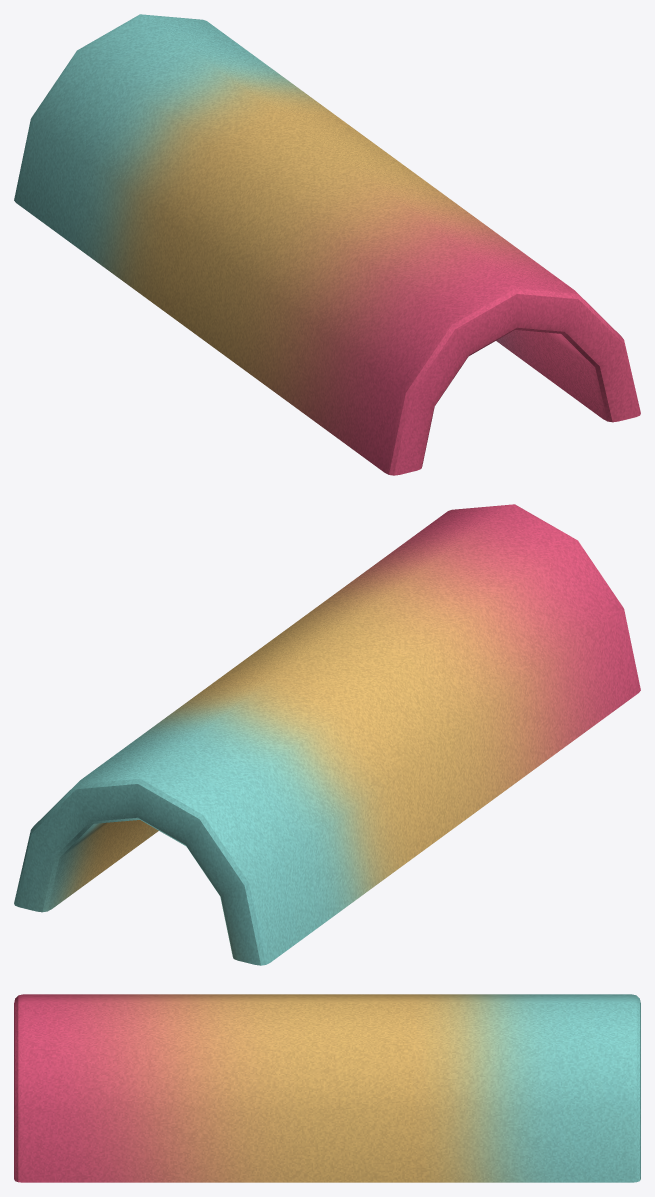
The model's file is tunnel.FBX.
The picture shows the model from 3 angles, top to bottom: view 1: azimuth 30°, elevation 25°; view 2: azimuth 150°, elevation 25°; view 3: azimuth 270°, elevation 25°; orthographic projection. The views are drawn at different scales.
Parts seen in each view (by area): view 1: Cylinder001; view 2: Cylinder001; view 3: Cylinder001.
Boxes of the visible parts, x1,y1,x2,y2 form: Cylinder001: (14, 14, 640, 475); Cylinder001: (14, 504, 640, 965); Cylinder001: (14, 994, 640, 1182).
Bounding box in the file's own units: 52.17 × 30.74 × 135.
